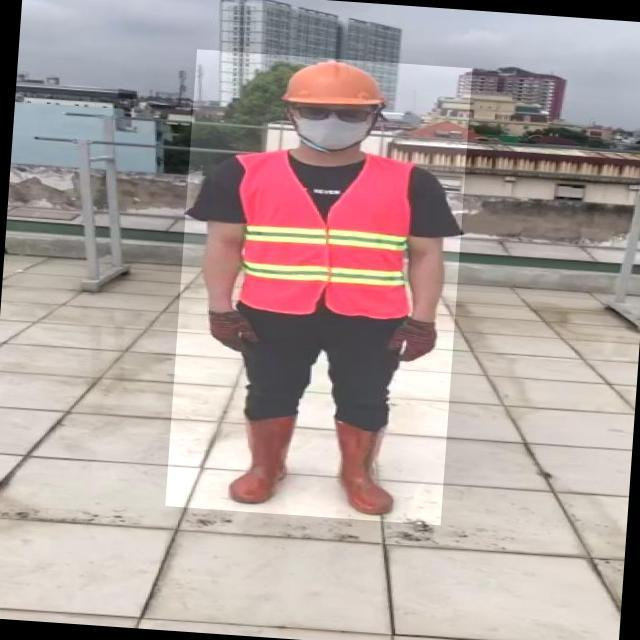Gloves: (385, 316, 440, 365), (208, 308, 257, 355)
Helmet: (278, 55, 390, 112)
Human: (165, 50, 472, 526)
Safety Boot: (325, 419, 399, 518), (227, 410, 292, 507)
Safety Vest: (223, 147, 423, 321)
